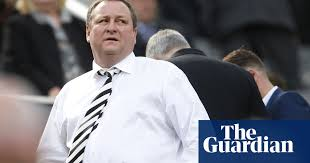F_shirt: (46, 61, 210, 163)
F_tie: (69, 65, 117, 163)
